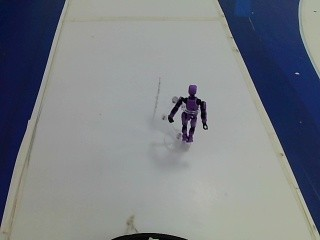pedestrian: (166, 85, 207, 147)
